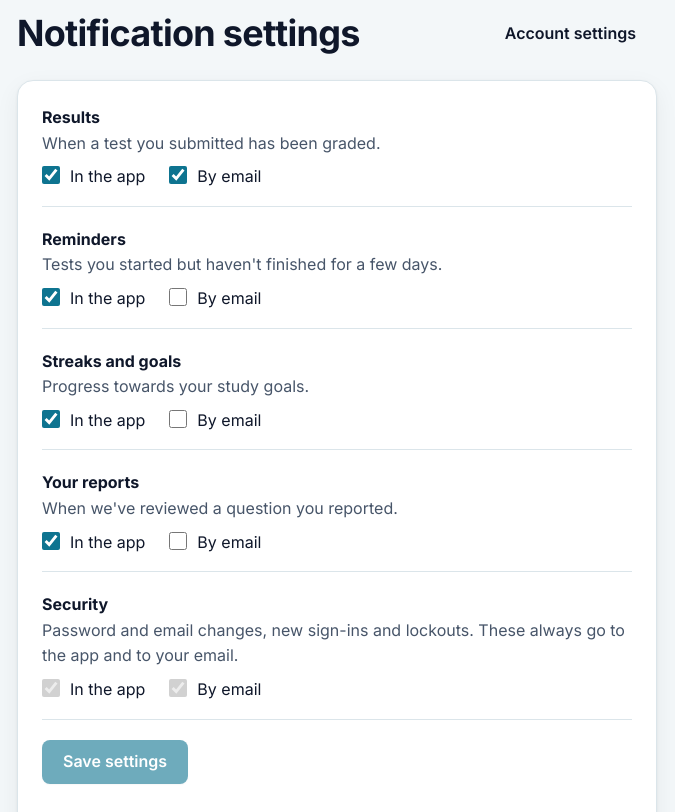
Test: NotificationPreferencesForm › says so when saving fails
Click the checkbox labelled "In the app" below "Your reports" at coordinates (51, 540), box [42,532,60,550]
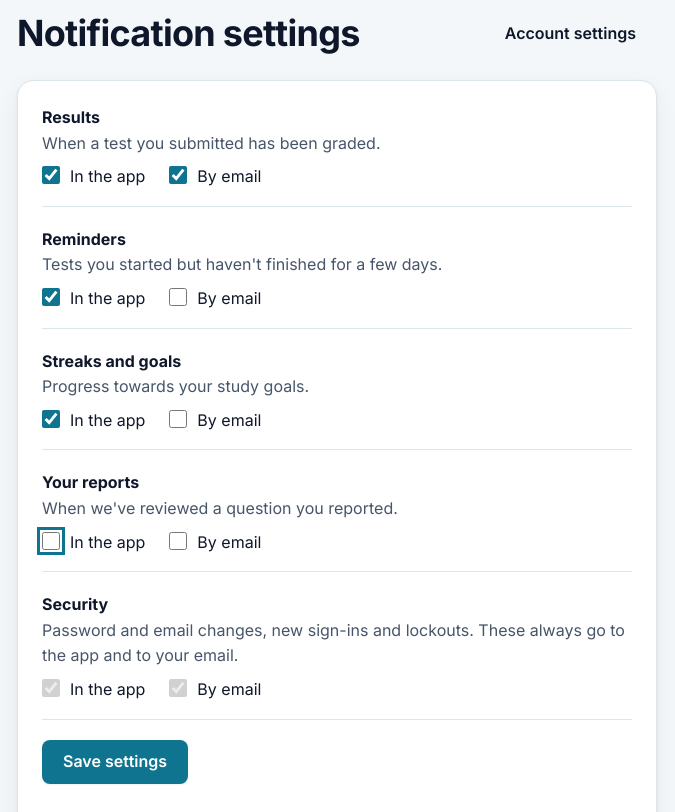
Click the button "Save settings" at coordinates (115, 762), box [42,740,188,784]
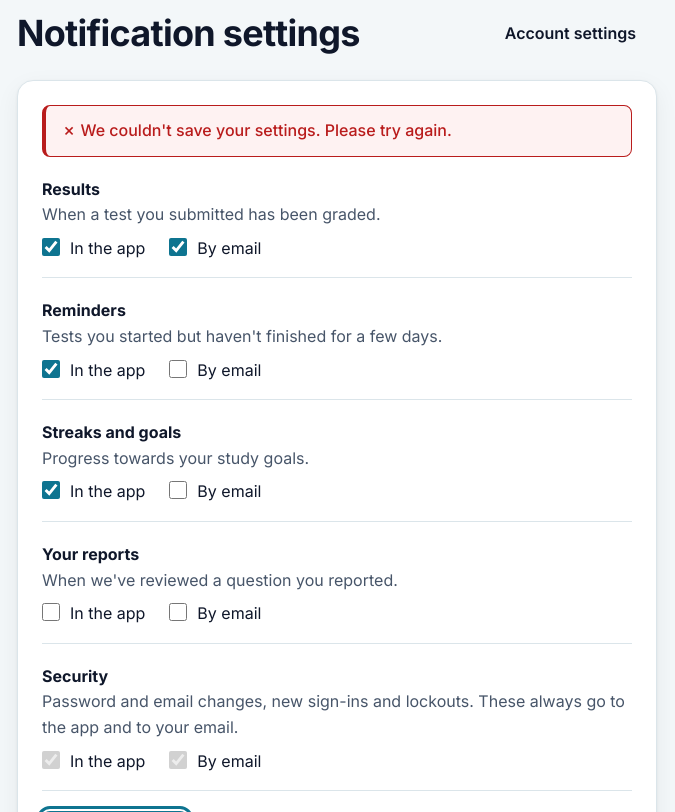
Expected: the message shows "We couldn't save your settings.", [80,120,452,140]
